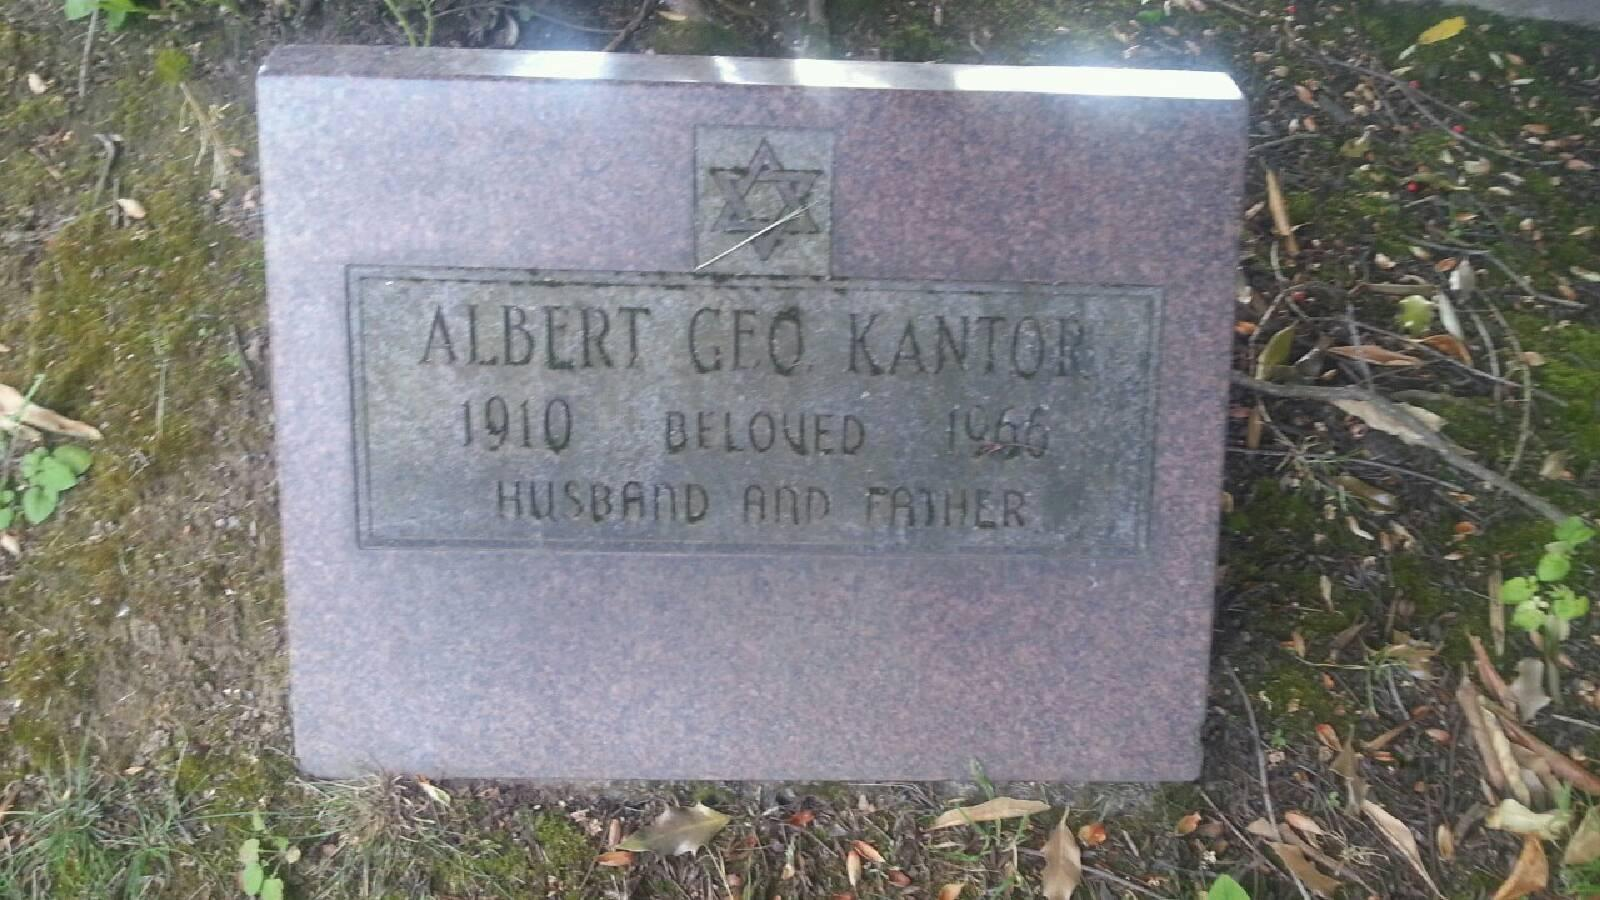flat: (253, 38, 1247, 791)
